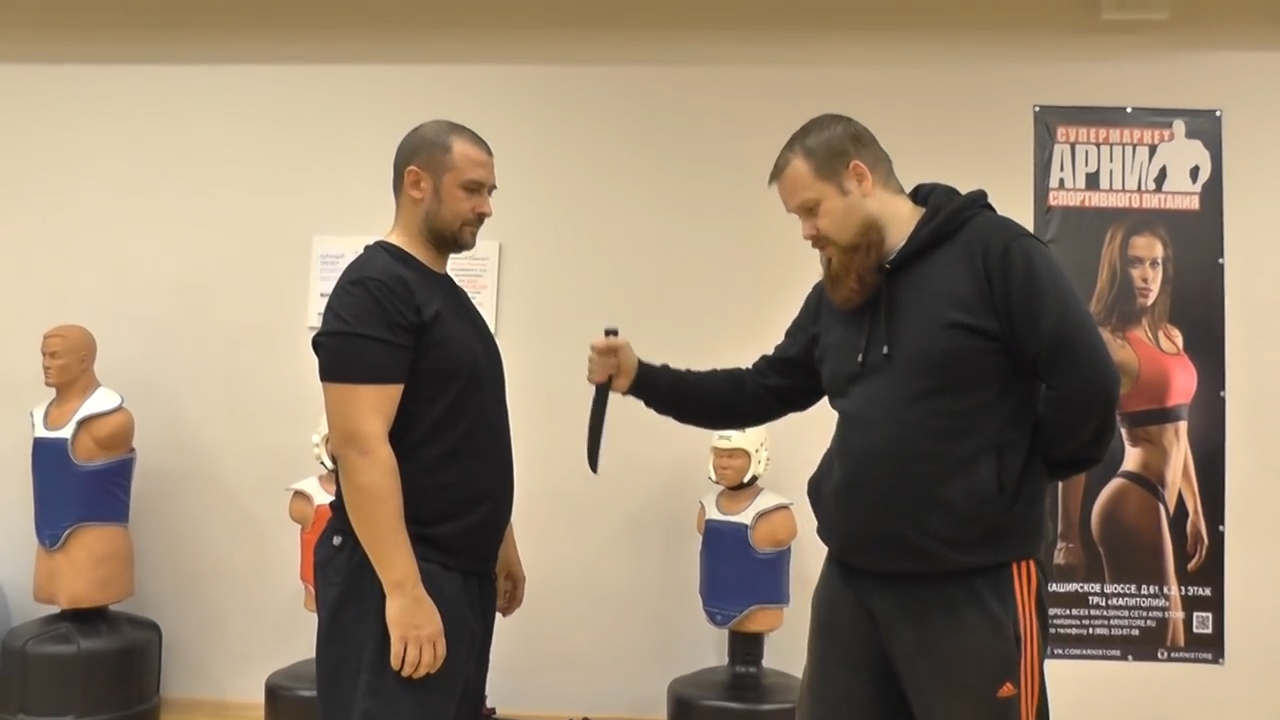knife: (580, 320, 625, 481)
